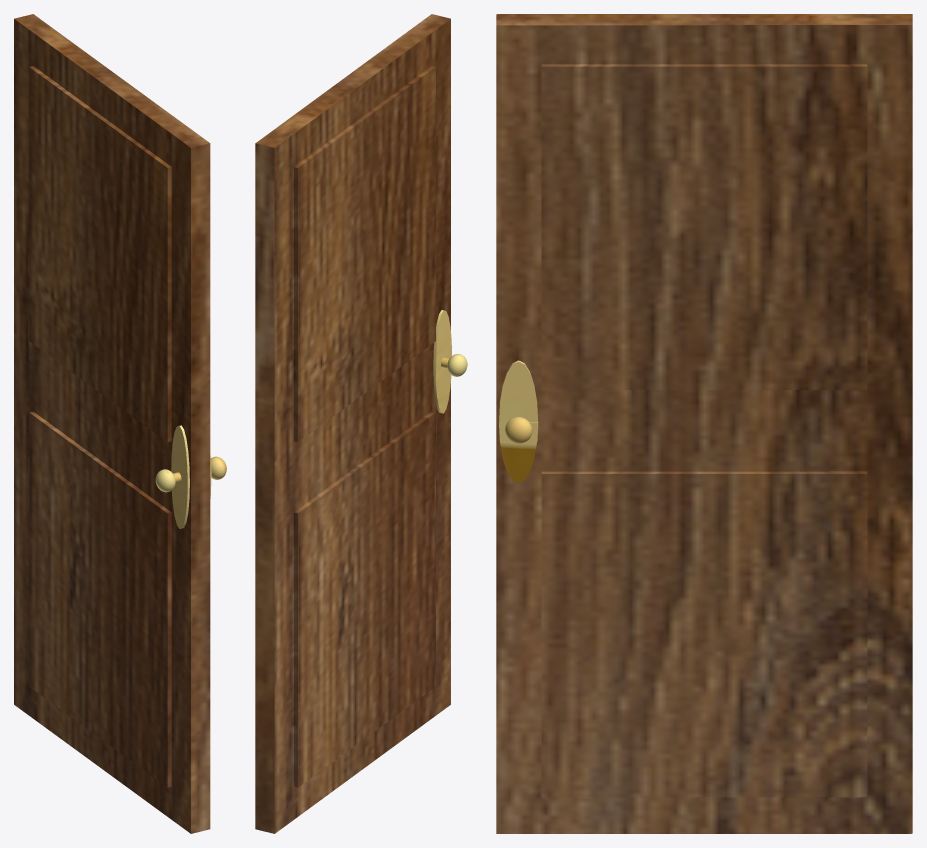
The model's file is Porte22.fbx.
3 views of the same model, side by side, from view 1: azimuth 30°, elevation 25°; view 2: azimuth 150°, elevation 25°; view 3: azimuth 270°, elevation 25° (orthographic). The views are drawn at different scales.
Parts seen in each view (by area): view 1: Door; view 2: Door; view 3: Door.
Part boxes in pixels (box(x1,y1,x2,y2)): Door: box(14, 14, 226, 833); Door: box(255, 14, 467, 833); Door: box(496, 14, 912, 833).
Bounding box in the file's own units: 38.41 × 371 × 173.
